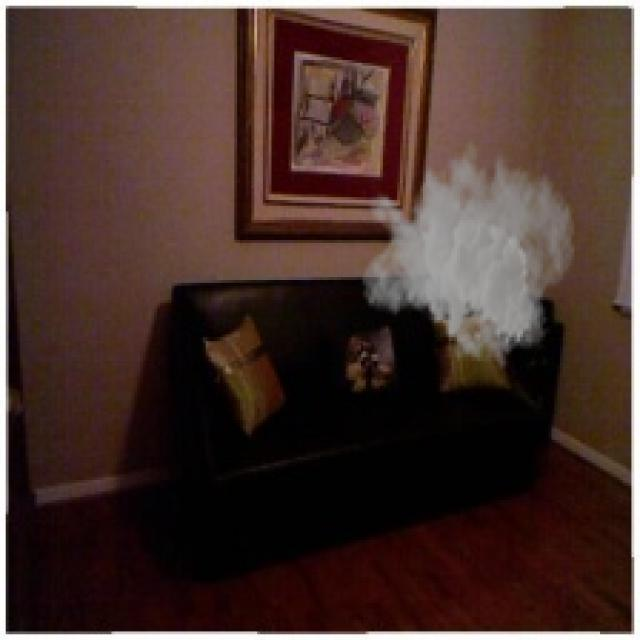Smoke: (360, 132, 577, 372)
